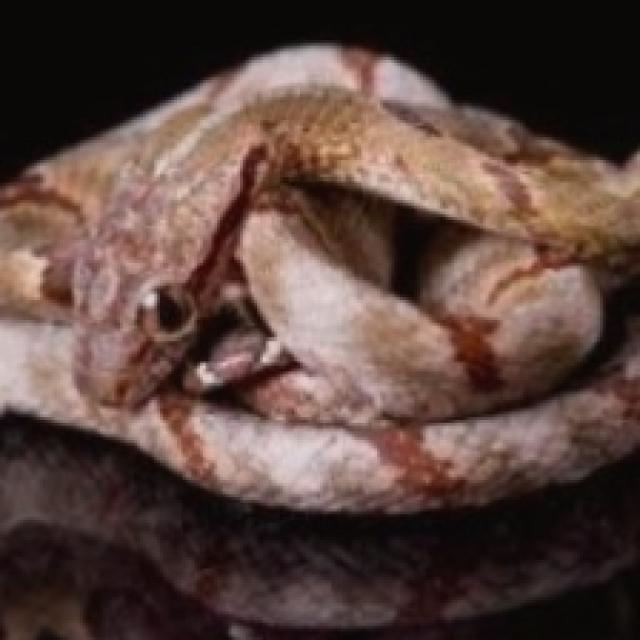dog-toothed cat snake: (0, 46, 637, 509)
